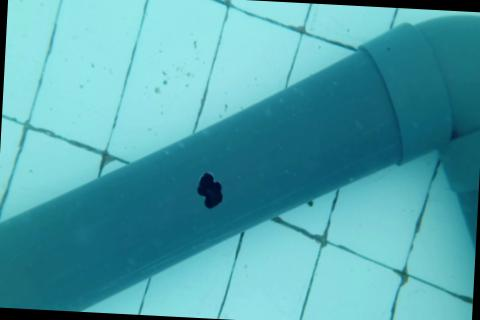kebocoran: (196, 170, 226, 211)
